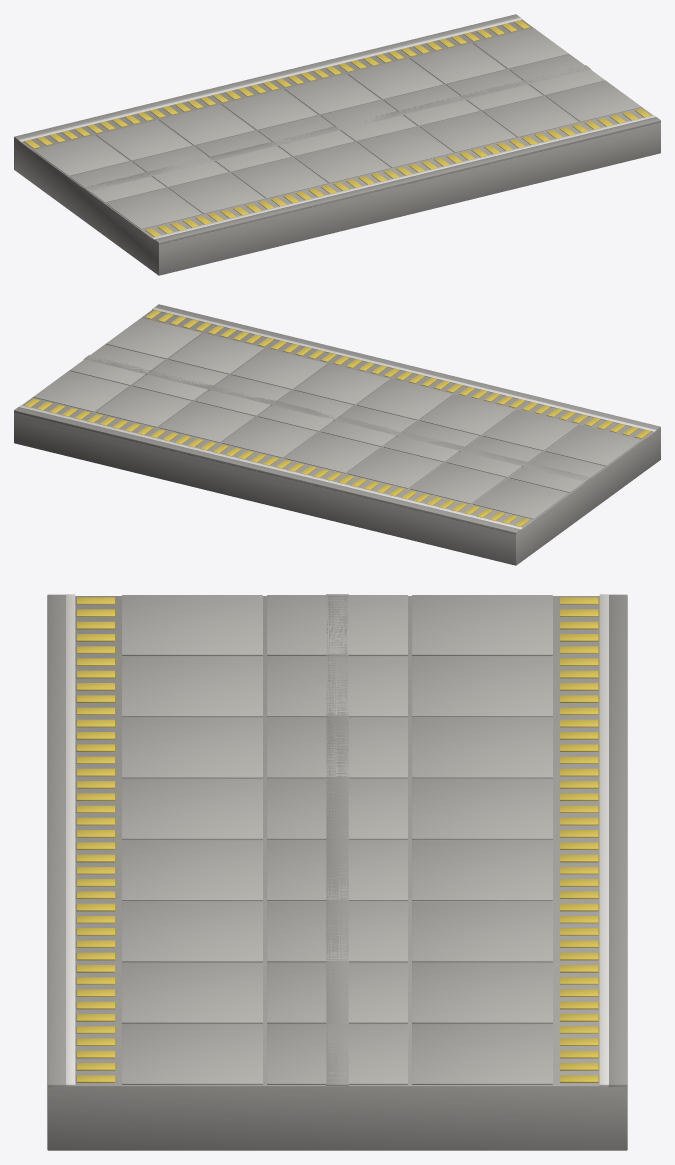
Rendered from th17_bahnsteig_modul.glb.
3 renders of one model, top to bottom at view 1: azimuth 30°, elevation 25°; view 2: azimuth 150°, elevation 25°; view 3: azimuth 270°, elevation 25°, orthographic. The views are drawn at different scales.
Visible parts, largest first — view 1: Cube, Cube.067, Cube.025, Cube.068, Cube.111, Cube.001, Cube.007, Cube.019, Cube.009, Cube.013, Cube.021, Cube.003 (+19 smaller); view 2: Cube, Cube.110, Cube.068, Cube.111, Cube.025, Cube.003, Cube.009, Cube.021, Cube.007, Cube.015, Cube.019, Cube.001 (+19 smaller); view 3: Cube, Cube.111, Cube.025, Cube.068, Cube.007, Cube.009, Cube.016, Cube.018, Cube.001, Cube.003, Cube.004, Cube.006 (+18 smaller).
Part boxes in pixels (<box>): Cube: <box>14,20,660,275</box>; Cube.067: <box>158,127,660,275</box>; Cube.025: <box>154,117,660,244</box>; Cube.068: <box>14,14,520,141</box>; Cube.111: <box>84,65,591,192</box>; Cube.001: <box>106,188,201,229</box>; Cube.007: <box>231,157,327,198</box>; Cube.019: <box>482,96,578,137</box>; Cube.009: <box>159,104,254,145</box>; Cube.013: <box>357,127,452,167</box>; Cube.021: <box>410,43,506,84</box>; Cube.003: <box>33,135,129,176</box>; Cube: <box>14,310,660,565</box>; Cube.110: <box>14,417,516,565</box>; Cube.068: <box>14,407,520,534</box>; Cube.111: <box>83,355,590,482</box>; Cube.025: <box>154,304,660,430</box>; Cube.003: <box>473,478,568,519</box>; Cube.009: <box>347,447,443,488</box>; Cube.021: <box>96,386,192,427</box>; Cube.007: <box>420,394,515,435</box>; Cube.015: <box>222,417,317,457</box>; Cube.019: <box>168,333,264,374</box>; Cube.001: <box>545,425,641,466</box>; Cube: <box>47,596,627,1150</box>; Cube.111: <box>326,594,348,1085</box>; Cube.025: <box>47,594,66,1088</box>; Cube.068: <box>608,594,627,1088</box>; Cube.007: <box>122,717,262,778</box>; Cube.009: <box>412,717,552,778</box>; Cube.016: <box>122,901,262,962</box>; Cube.018: <box>412,901,552,962</box>; Cube.001: <box>122,595,262,655</box>; Cube.003: <box>412,595,552,655</box>; Cube.004: <box>122,656,262,716</box>; Cube.006: <box>412,656,552,716</box>.
Size of the model in its own units: 12 by 0.76 by 6.
